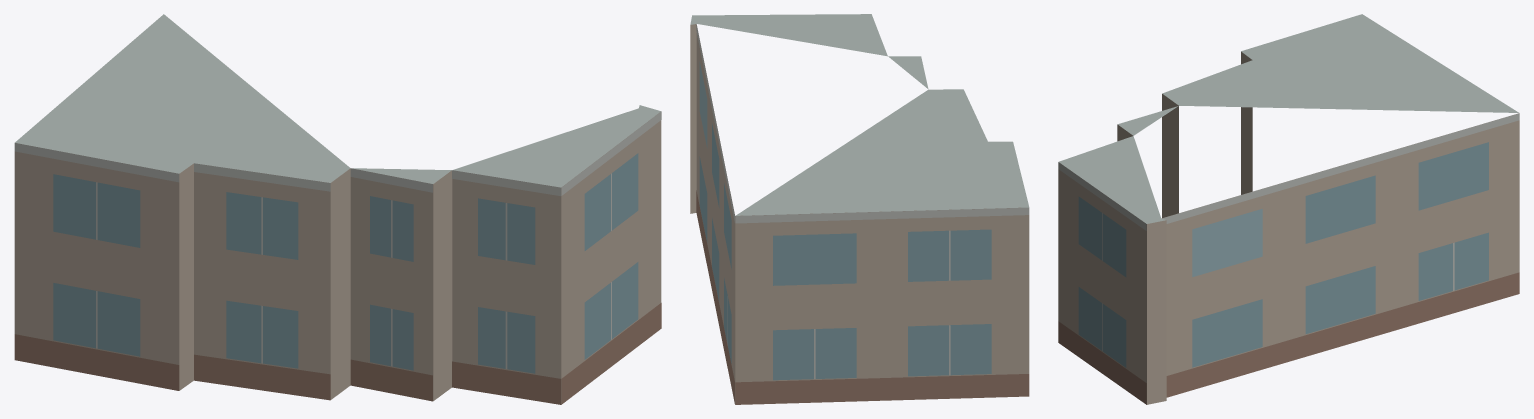
Rendered from survey-upis-32921106.glb.
The picture shows the model from 3 angles, left to right: view 1: azimuth 30°, elevation 25°; view 2: azimuth 150°, elevation 25°; view 3: azimuth 270°, elevation 25°; orthographic projection. The views are drawn at different scales.
Parts seen in each view (by area): view 1: survey-upis-32921106.tmp; view 2: survey-upis-32921106.tmp; view 3: survey-upis-32921106.tmp.
Part boxes in pixels (<box>): survey-upis-32921106.tmp: <box>14,14,661,404</box>; survey-upis-32921106.tmp: <box>690,14,1029,404</box>; survey-upis-32921106.tmp: <box>1058,14,1519,404</box>.
Size of the model in its own units: 15.21 by 6.1 by 14.11.
